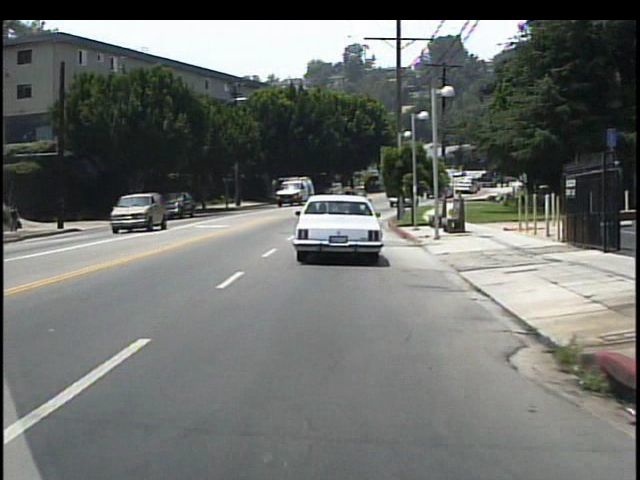person: (10, 202, 24, 233)
